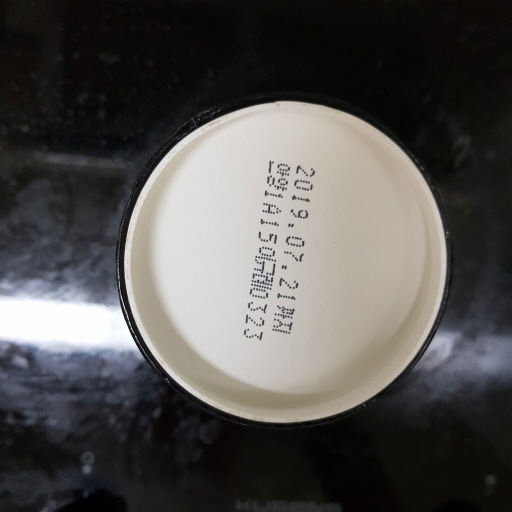Paper_1: (120, 98, 450, 429)
